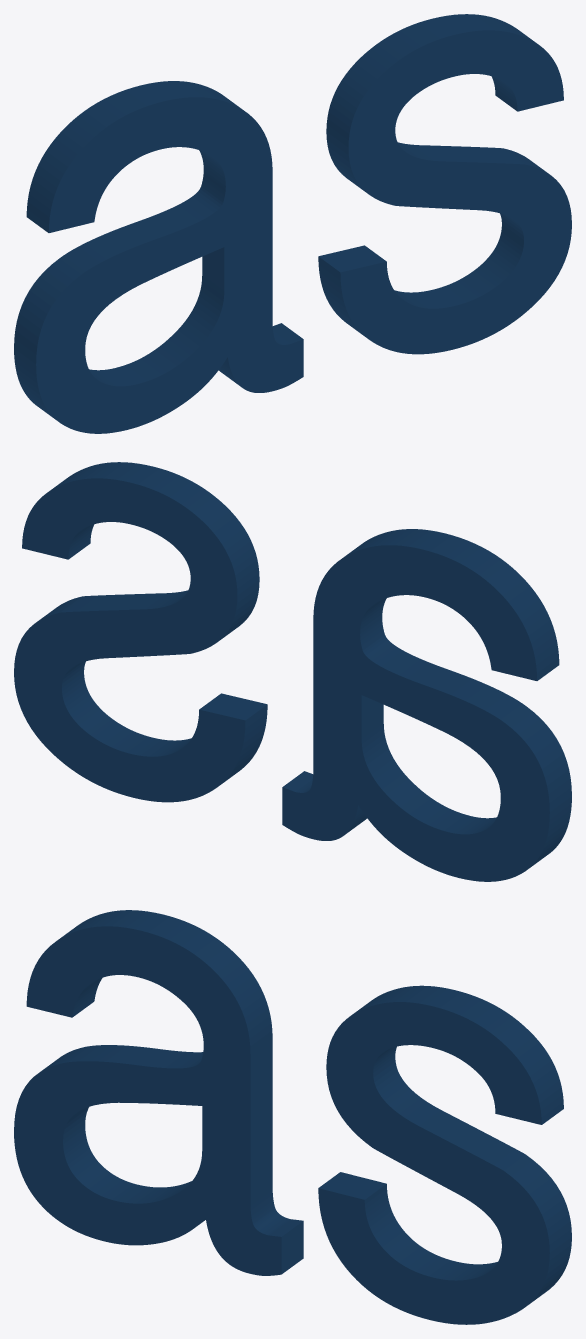
3 views of the same model, one above another, from view 1: azimuth 30°, elevation 25°; view 2: azimuth 150°, elevation 25°; view 3: azimuth 330°, elevation 25° (orthographic).
Parts seen in each view (by area): view 1: mesh_0; view 2: mesh_0; view 3: mesh_0.
Boxes of the visible parts, left/top/right/bottom form: mesh_0: left=14, top=14, right=571, bottom=433; mesh_0: left=14, top=462, right=571, bottom=881; mesh_0: left=14, top=910, right=571, bottom=1324.
Size of the model in its own units: 1.4 by 0.7971 by 0.1.
